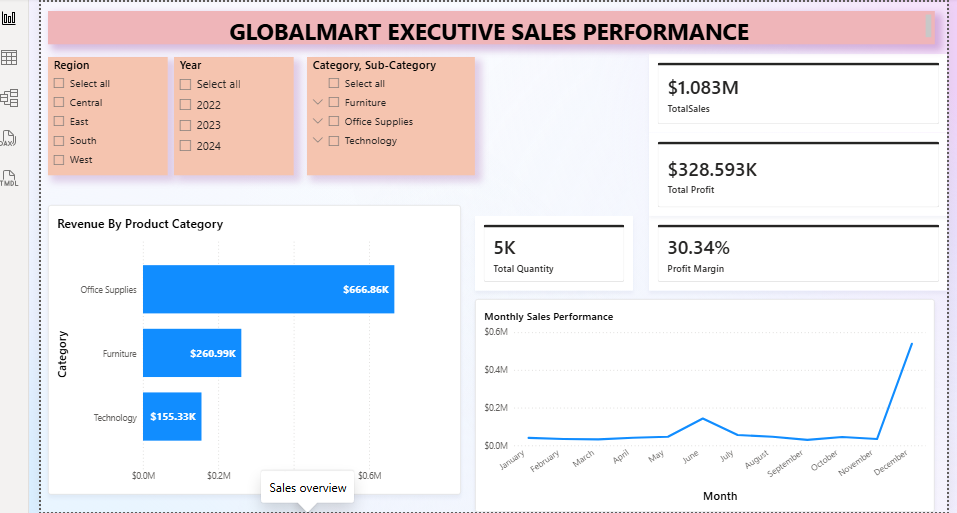

What the dashboard file says about the page in this screenshot:
{"tool":"powerbi","page":{"name":"Sales overview","canvas":[1280,720],"ordinal":1},"visuals":[{"type":"cardVisual","fields":{"Data":["Sales Fact Table.TotalSales"]},"box":[858.4,73.4,422.1,111.5],"z":0},{"type":"cardVisual","fields":{"Data":["Sales Fact Table.Profit Margin"]},"box":[858.4,302.1,422.1,105.9],"z":2005},{"type":"cardVisual","fields":{"Data":["Sales Fact Table.Total Profit"]},"box":[858.4,184.9,422.1,117.2],"z":2006},{"type":"lineChart","title":"Monthly Sales Performance","fields":{"Category":["DATE TABLE.Month"],"Y":["Sales Fact Table.TotalSales"]},"box":[612.7,419.3,649.4,300.7],"z":2007},{"type":"slicer","fields":{"Values":["Orders Table.Region"]},"box":[9.9,77.6,169.4,166.6],"z":2008},{"type":"slicer","fields":{"Values":["DATE TABLE.Year"]},"box":[187.8,77.6,169.4,166.6],"z":2009},{"type":"slicer","fields":{"Values":["Product Table.Category","Product Table.Sub-Category"]},"box":[375.5,77.6,237.2,166.6],"z":2010},{"type":"textbox","box":[9.9,12.7,1252.2,46.6],"z":2011},{"type":"clusteredBarChart","title":"Revenue By Product Category","fields":{"Category":["Product Table.Category","Product Table.Sub-Category"],"Y":["Sales Fact Table.TotalSales"]},"box":[9.9,286.6,583.1,409.4],"z":2012},{"type":"cardVisual","fields":{"Data":["Sales Fact Table.Total Quantity"]},"box":[612.7,302.1,223.1,105.9],"z":2013}]}

Visuals, with their boxes on the page's 1280x720 design canvas (x1, y1, x2, y2). These are canvas units, not pixel positions in the 957x513 screenshot, which may show the page scaled, cropped or inside an application window:
cardVisual - Sales Fact Table.TotalSales: box(858, 73, 1280, 185)
cardVisual - Sales Fact Table.Profit Margin: box(858, 302, 1280, 408)
cardVisual - Sales Fact Table.Total Profit: box(858, 185, 1280, 302)
"Monthly Sales Performance" lineChart: box(613, 419, 1262, 720)
slicer - Orders Table.Region: box(10, 78, 179, 244)
slicer - DATE TABLE.Year: box(188, 78, 357, 244)
slicer - Product Table.Category x Product Table.Sub-Category: box(376, 78, 613, 244)
textbox: box(10, 13, 1262, 59)
"Revenue By Product Category" clusteredBarChart: box(10, 287, 593, 696)
cardVisual - Sales Fact Table.Total Quantity: box(613, 302, 836, 408)
